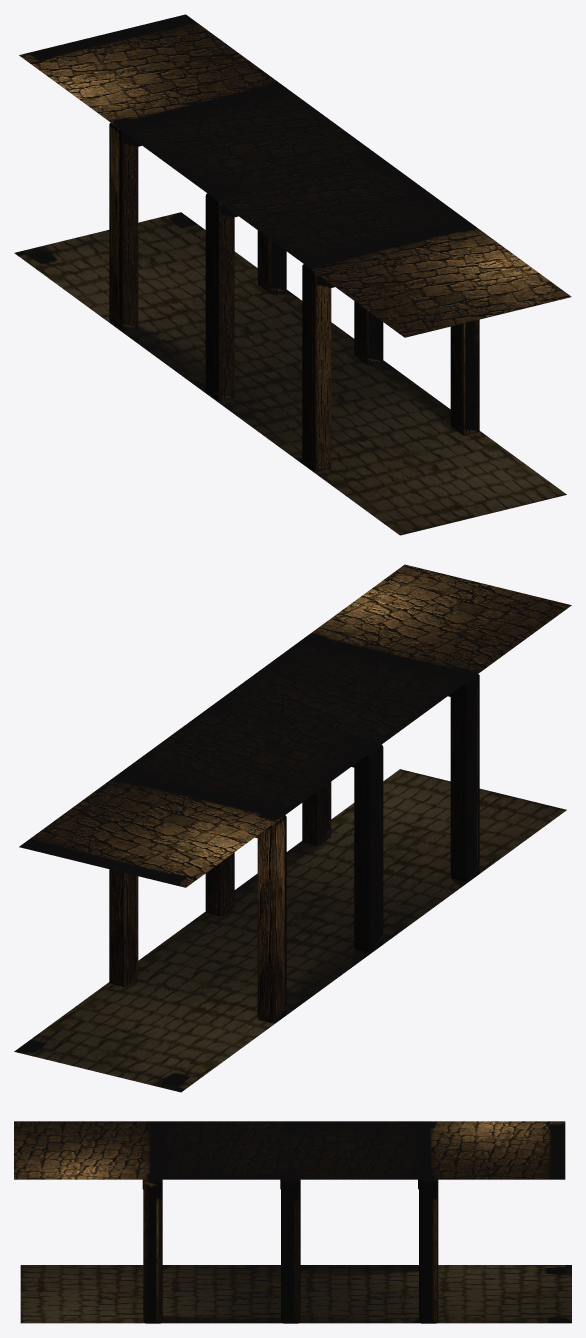
The model's file is corridorBaked01.fbx.
3 views of the same model, one above another, from view 1: azimuth 30°, elevation 25°; view 2: azimuth 150°, elevation 25°; view 3: azimuth 270°, elevation 25° (orthographic). The views are drawn at different scales.
Visible parts, largest first — view 1: castle_celling01, castle_floor01, castle_beam01; view 2: castle_celling01, castle_floor01, castle_beam01; view 3: castle_celling01, castle_floor01, castle_beam01.
Boxes of the visible parts, x1=… form: castle_celling01: x1=19, y1=14, x2=571, y2=337; castle_floor01: x1=14, y1=212, x2=566, y2=535; castle_beam01: x1=109, y1=122, x2=479, y2=471; castle_celling01: x1=19, y1=564, x2=571, y2=887; castle_floor01: x1=14, y1=769, x2=566, y2=1092; castle_beam01: x1=109, y1=674, x2=479, y2=1023; castle_celling01: x1=14, y1=1121, x2=565, y2=1179; castle_floor01: x1=20, y1=1265, x2=571, y2=1323; castle_beam01: x1=142, y1=1179, x2=438, y2=1323.
Size of the model in its own units: 200 by 232 by 810.
